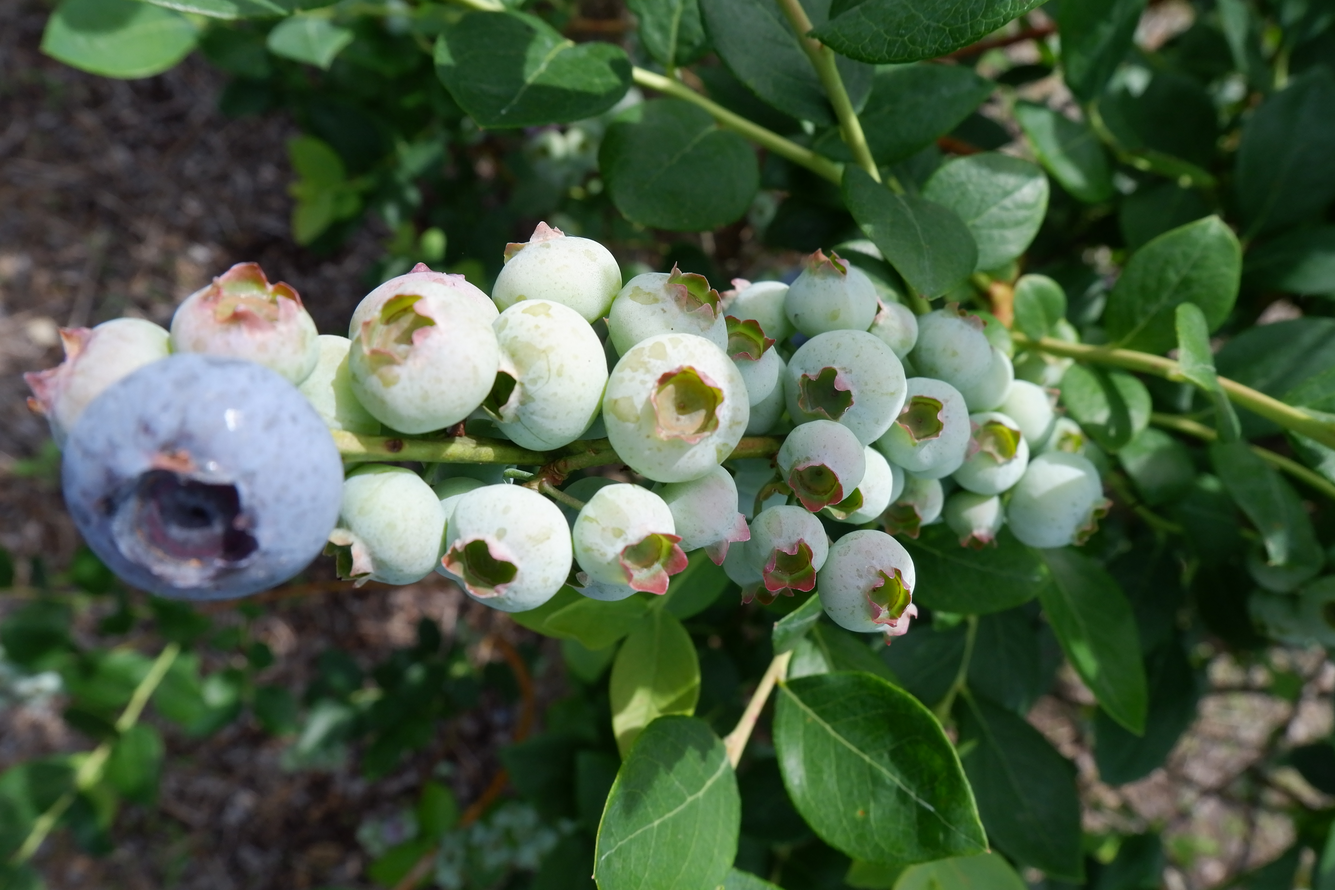Immature: (348, 279, 501, 434), (606, 334, 752, 481), (169, 262, 312, 382), (486, 301, 603, 447), (31, 320, 170, 439), (443, 486, 570, 610), (324, 462, 441, 584), (574, 485, 688, 596), (789, 332, 906, 440), (348, 261, 500, 342), (495, 227, 619, 319), (651, 465, 749, 567), (912, 311, 1011, 409), (609, 273, 722, 357), (822, 532, 913, 630), (1011, 455, 1107, 546), (296, 336, 382, 436), (883, 380, 971, 474), (781, 420, 865, 509), (787, 252, 876, 336), (726, 319, 786, 436), (744, 508, 828, 588), (431, 476, 490, 580), (957, 414, 1027, 493), (822, 448, 890, 522), (720, 457, 798, 520), (723, 541, 798, 606), (720, 281, 793, 345), (991, 382, 1054, 449), (882, 471, 943, 538), (556, 478, 623, 538), (945, 485, 1003, 544), (869, 303, 917, 354), (1033, 415, 1086, 460), (430, 462, 520, 488), (884, 453, 904, 504)
Mature: (64, 358, 337, 594), (568, 568, 633, 600)
